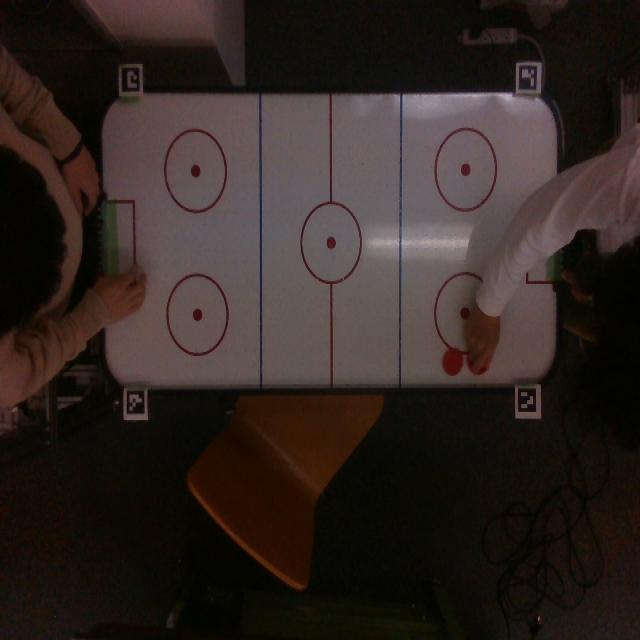puck: (442, 348, 463, 375)
